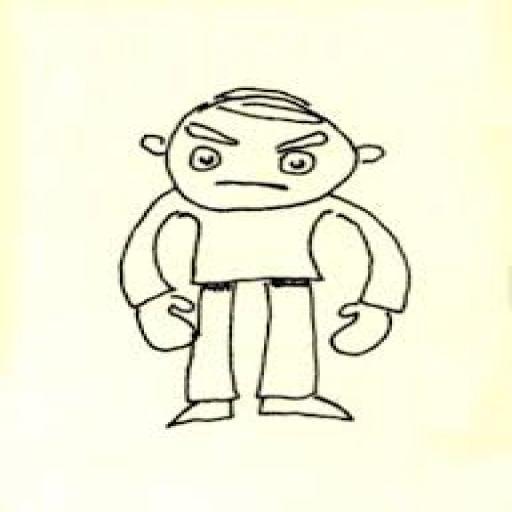person: (115, 84, 416, 456)
